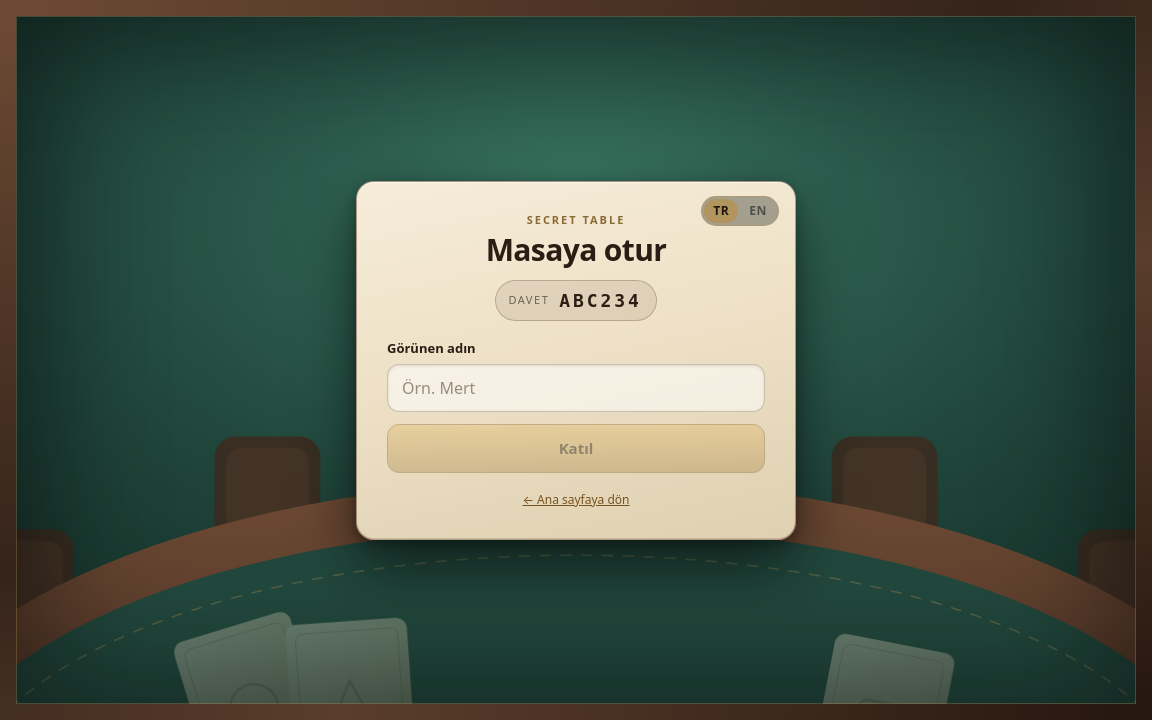
ad boşken "Katıl" devre dışı
Expected: the button "Katıl" is disabled, [387,424,765,472]
Type "Mert" into the field labelled "Görünen adın" at (576, 388), box [387,364,765,412]
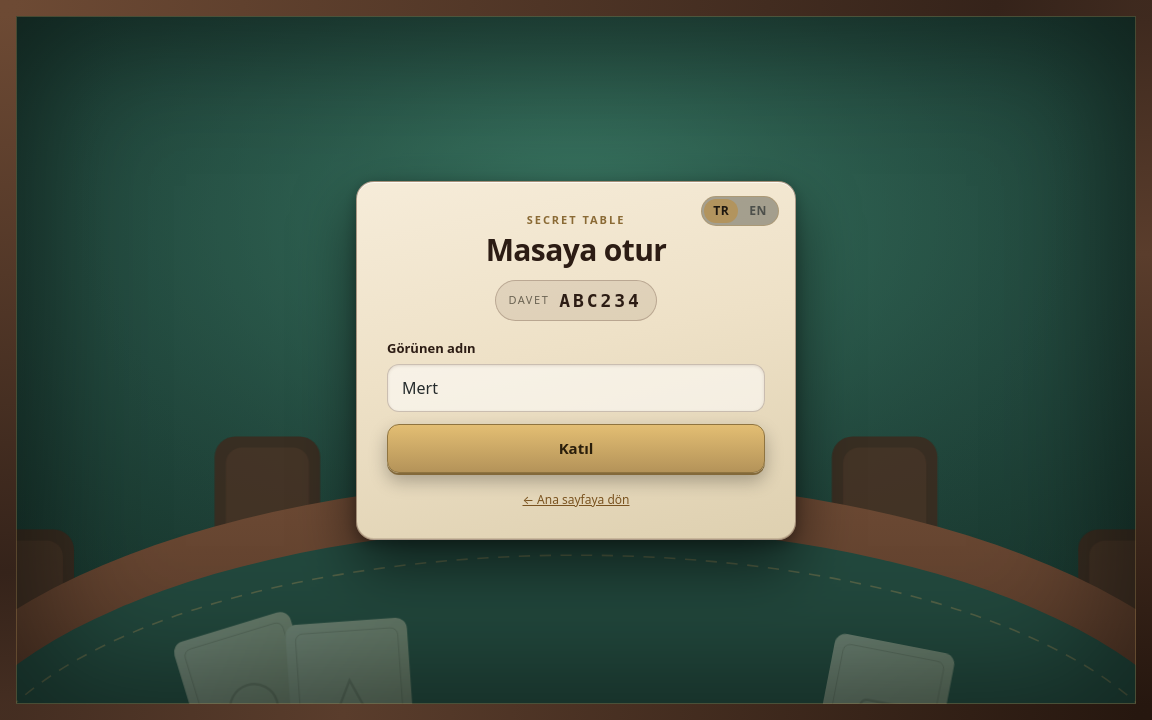
Expected: the button "Katıl" is enabled, [387,424,765,472]
